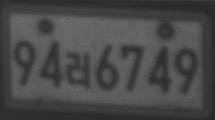4: (147, 46, 174, 93), (39, 41, 64, 88)
6: (94, 45, 119, 90)
7: (120, 43, 145, 91)
9: (174, 46, 199, 95), (14, 39, 36, 85)
러: (65, 51, 91, 88)
